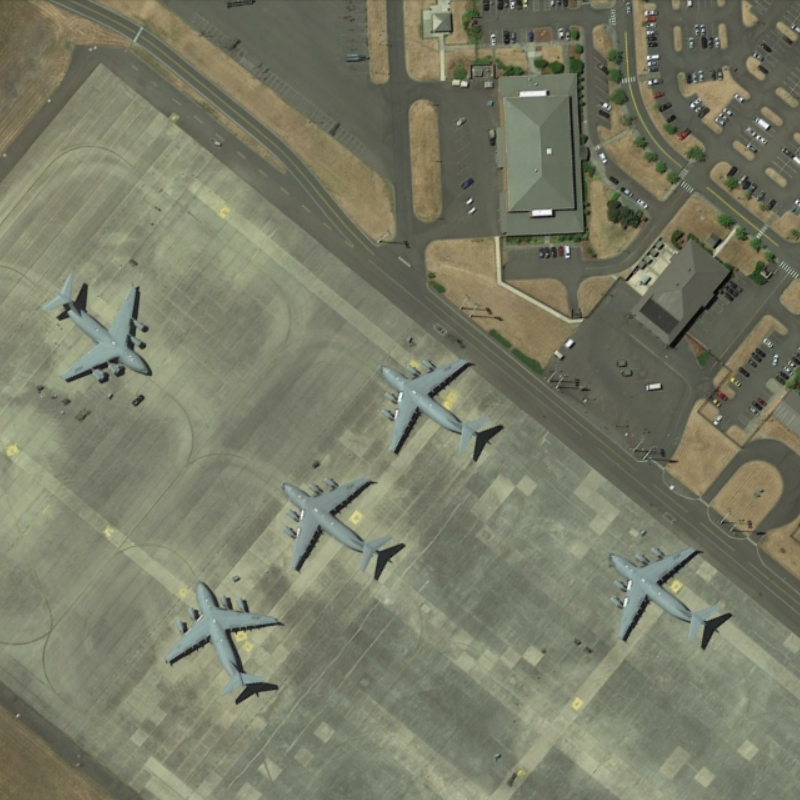A3: (160, 573, 286, 701), (36, 263, 162, 388), (273, 470, 407, 581), (599, 539, 730, 651), (371, 354, 497, 458)
